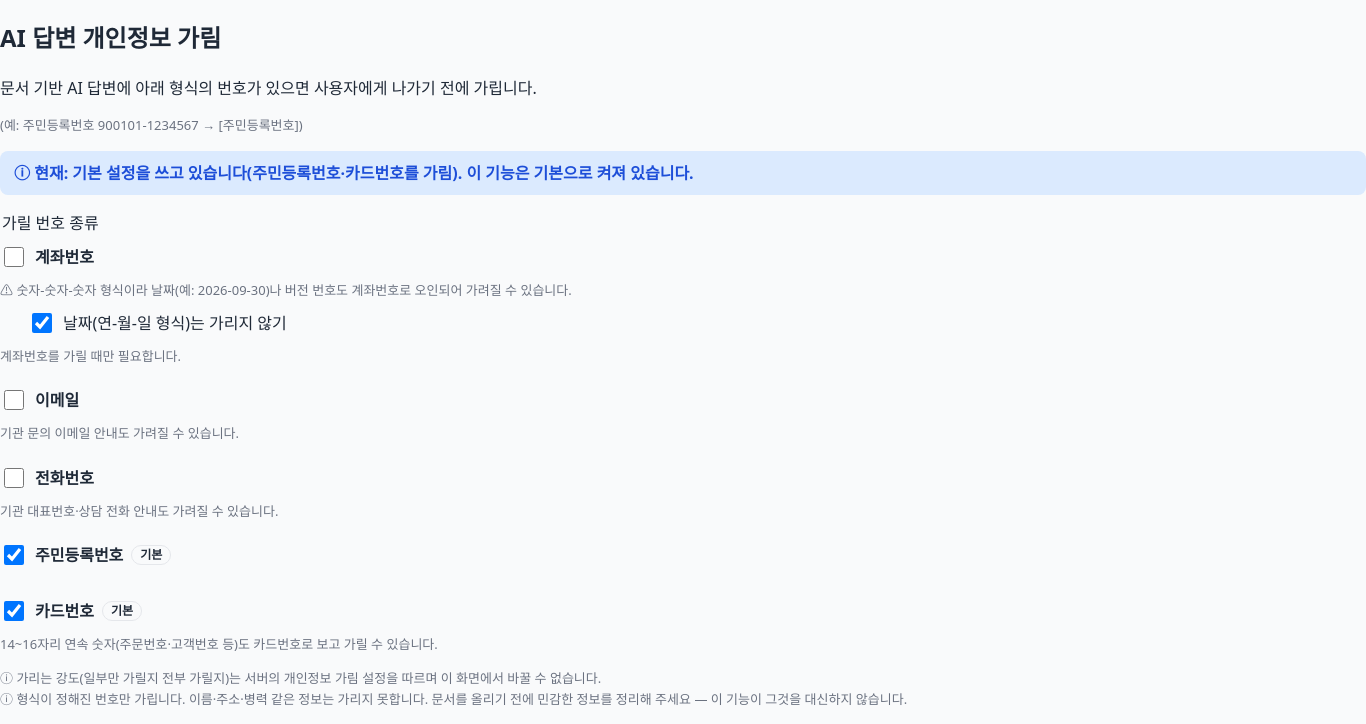
Test: GR-3 AI 답변 개인정보 가림 설정 › 모든 가림을 끄는 저장은 "모든 가림을 끄면" 문구로 확인한다
The width and height of the screenshot is (1366, 724).
What coordinates should you click on to do the following:
click the checkbox labelled "주민등록번호 기본"
I would click on:
 (14, 555)
Its box is 4,545 -> 24,565.
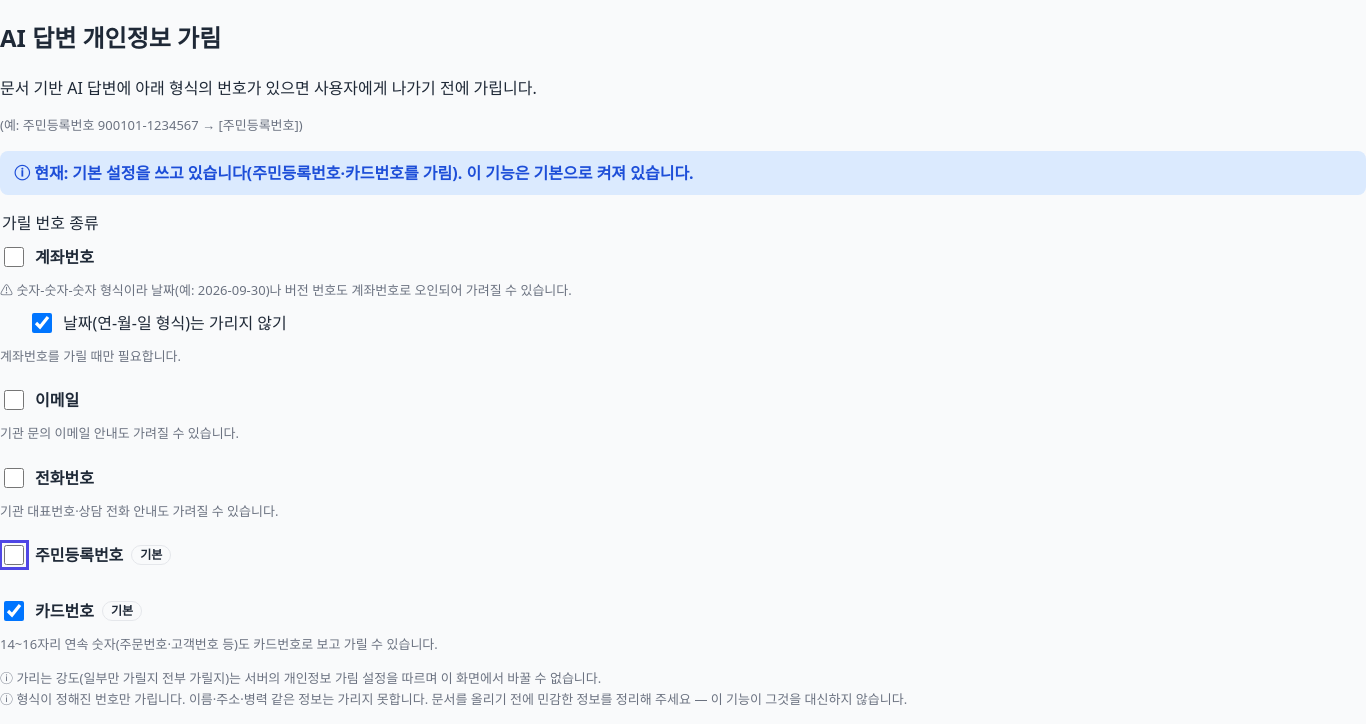
What coordinates should you click on to do the following:
click the checkbox labelled "카드번호 기본"
I would click on:
 (14, 611)
Its box is 4,601 -> 24,621.
(page scrolled)
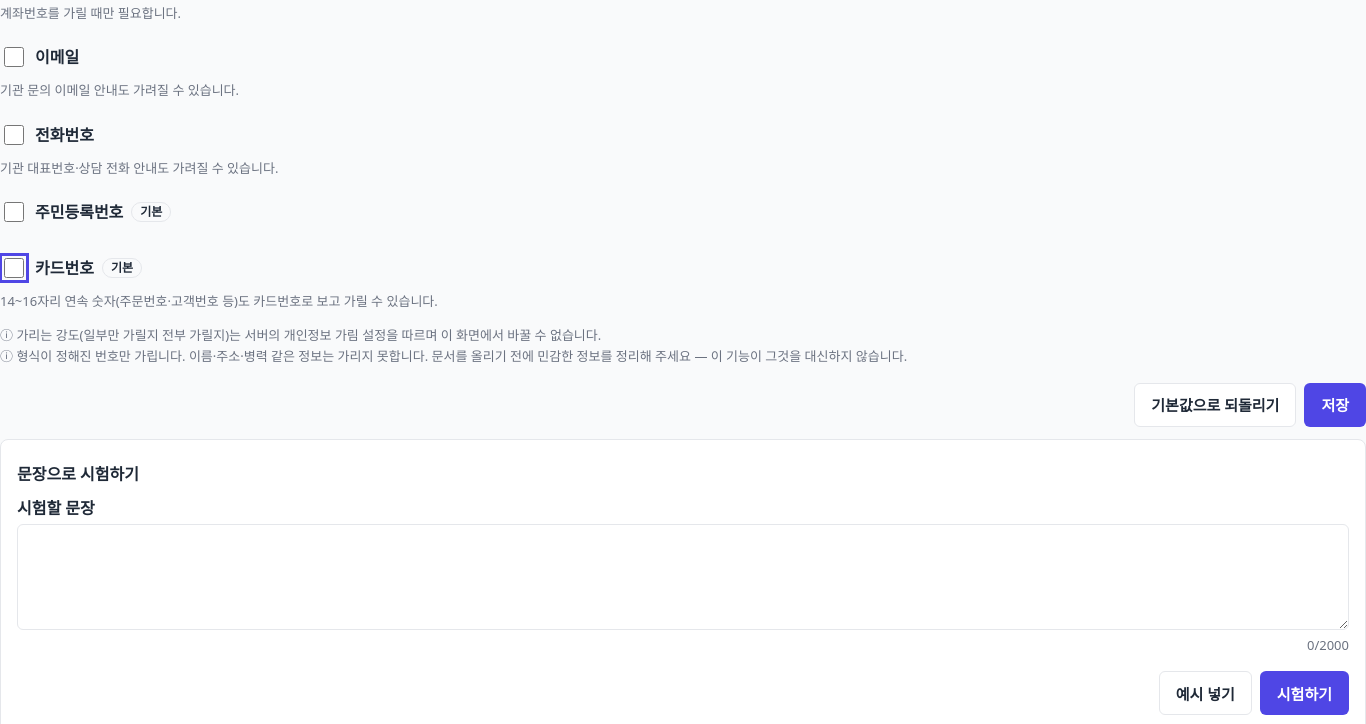
What coordinates should you click on to do the following:
click the button "저장"
I would click on:
 (1335, 405)
Its box is 1304,383 -> 1365,427.
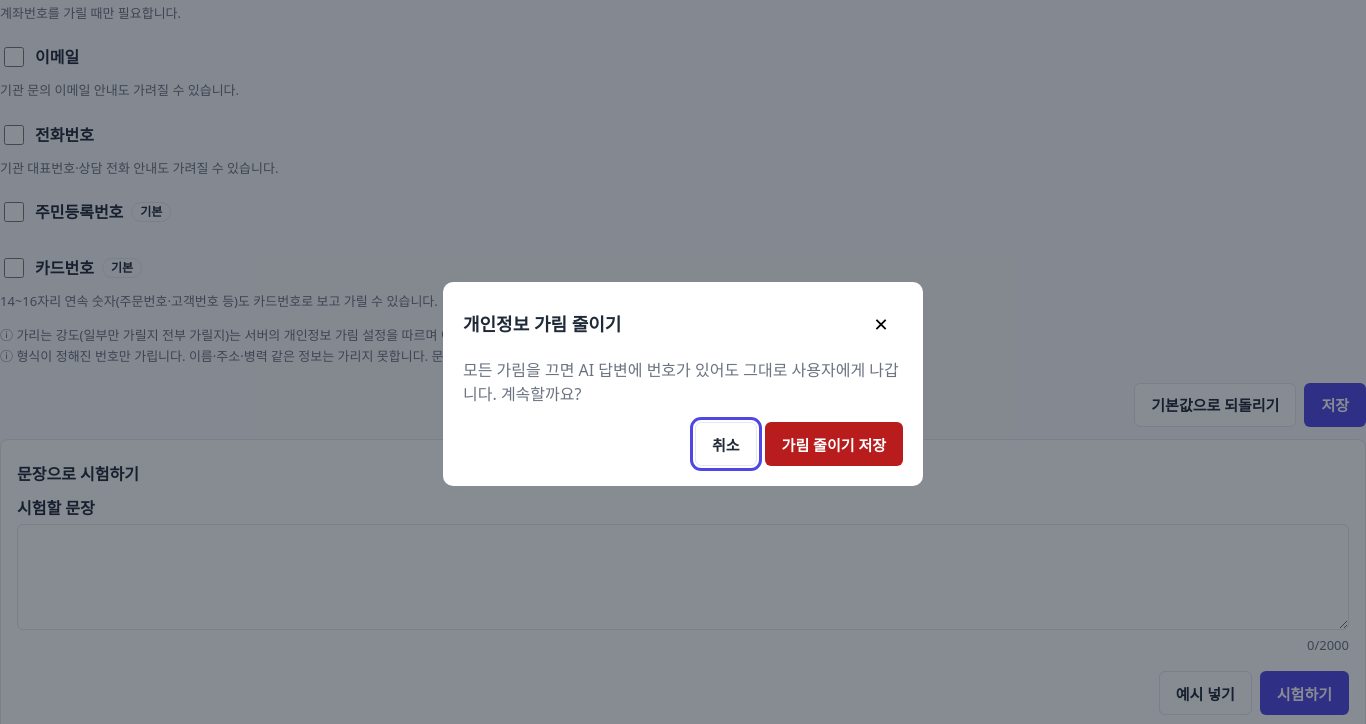
Expected: the text "모든 가림을 끄면 AI 답변에 번호가 있어도 그대로 사용자에게 나갑니다. 계속할까요?" is shown, 463,358 -> 903,406
